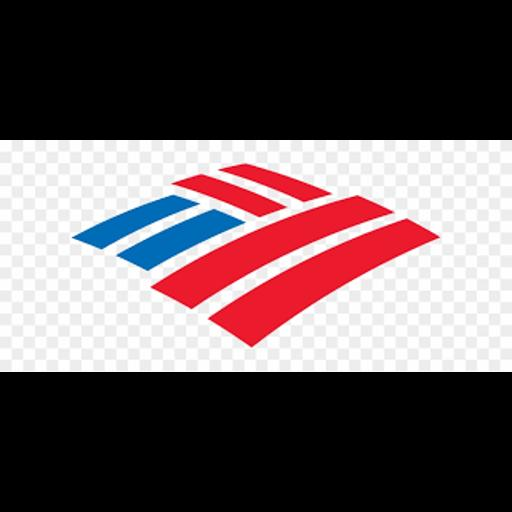Bank of America: (0, 140, 512, 372)
